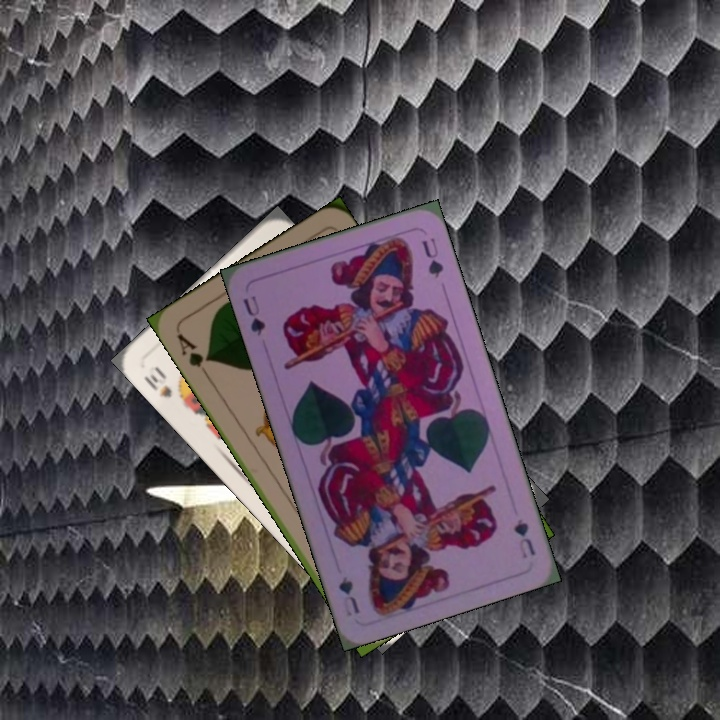GA: (173, 329, 213, 380)
GU: (238, 292, 268, 338), (510, 514, 538, 561)
S10: (140, 362, 190, 406)
